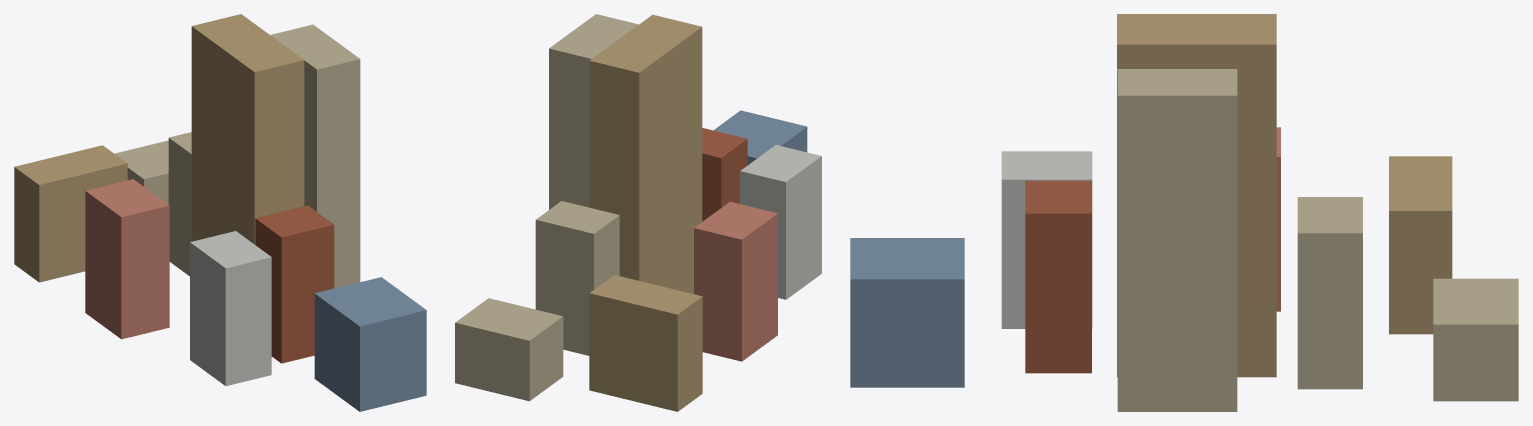
The model's file is synth-14-07.lod2.glb.
3 views of the same model, side by side, from view 1: azimuth 30°, elevation 25°; view 2: azimuth 150°, elevation 25°; view 3: azimuth 270°, elevation 25° (orthographic). The views are drawn at different scales.
Visible parts, largest first — view 1: synth-14-07; view 2: synth-14-07; view 3: synth-14-07.
Boxes of the visible parts, x1,y1,x2,y2 form: synth-14-07: (14,14,426,411); synth-14-07: (455,14,821,411); synth-14-07: (850,14,1518,411).
Bounding box in the file's own units: 43.01 × 50.44 × 91.9.
